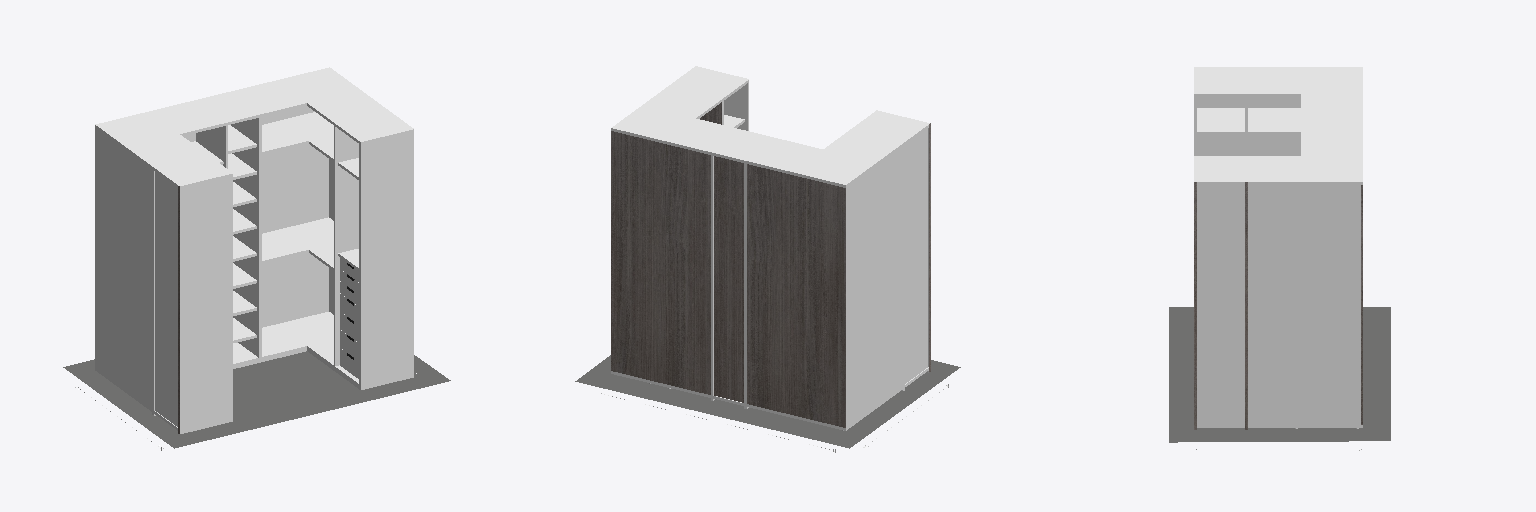
3 views of the same model, side by side, from view 1: azimuth 30°, elevation 25°; view 2: azimuth 150°, elevation 25°; view 3: azimuth 270°, elevation 25° (orthographic).
Parts seen in each view (by area): view 1: Mesh5 B2_CON_COS_PC_DXF1 Model, Mesh25 B2_CON_COS_PC_DXF1 Model, Mesh2 B2_CON_COS_PC_DXF1 Model, Mesh70 B2_CON_COS_PC_DXF1 Model, Mesh108 B2_CON_COS_PC_DXF1 Model, Mesh6 B2_CON_COS_PC_DXF1 Model, Mesh109 B2_CON_COS_PC_DXF1 Model, Mesh63 B2_CON_COS_PC_DXF1 Model, Mesh86 B2_CON_COS_PC_DXF1 Model, Mesh77 B2_CON_COS_PC_DXF1 Model, Mesh85 B2_CON_COS_PC_DXF1 Model, Mesh76 B2_CON_COS_PC_DXF1 Model (+1 smaller); view 2: Mesh25 B2_CON_COS_PC_DXF1 Model, Mesh70 B2_CON_COS_PC_DXF1 Model, Mesh5 B2_CON_COS_PC_DXF1 Model, Mesh52 B2_CON_COS_PC_DXF1 Model, Mesh6 B2_CON_COS_PC_DXF1 Model, Mesh109 B2_CON_COS_PC_DXF1 Model, Mesh108 B2_CON_COS_PC_DXF1 Model, Mesh2 B2_CON_COS_PC_DXF1 Model; view 3: Mesh70 B2_CON_COS_PC_DXF1 Model, Mesh5 B2_CON_COS_PC_DXF1 Model, Mesh96 B2_CON_COS_PC_DXF1 Model, Mesh109 B2_CON_COS_PC_DXF1 Model, Mesh108 B2_CON_COS_PC_DXF1 Model, Mesh25 B2_CON_COS_PC_DXF1 Model, Mesh6 B2_CON_COS_PC_DXF1 Model, Mesh31 B2_CON_COS_PC_DXF1 Model, Mesh10 B2_CON_COS_PC_DXF1 Model.
Boxes of the visible parts, x1,y1,x2,y2 form: Mesh5 B2_CON_COS_PC_DXF1 Model: [95, 67, 413, 430]; Mesh25 B2_CON_COS_PC_DXF1 Model: [95, 128, 195, 408]; Mesh2 B2_CON_COS_PC_DXF1 Model: [178, 172, 232, 433]; Mesh70 B2_CON_COS_PC_DXF1 Model: [262, 106, 333, 327]; Mesh108 B2_CON_COS_PC_DXF1 Model: [91, 351, 421, 435]; Mesh6 B2_CON_COS_PC_DXF1 Model: [155, 172, 177, 426]; Mesh109 B2_CON_COS_PC_DXF1 Model: [63, 355, 450, 448]; Mesh63 B2_CON_COS_PC_DXF1 Model: [262, 312, 333, 364]; Mesh86 B2_CON_COS_PC_DXF1 Model: [281, 217, 333, 270]; Mesh77 B2_CON_COS_PC_DXF1 Model: [281, 112, 333, 161]; Mesh85 B2_CON_COS_PC_DXF1 Model: [262, 229, 308, 263]; Mesh76 B2_CON_COS_PC_DXF1 Model: [262, 120, 308, 154]; Mesh25 B2_CON_COS_PC_DXF1 Model: [747, 147, 902, 427]; Mesh70 B2_CON_COS_PC_DXF1 Model: [611, 131, 710, 394]; Mesh5 B2_CON_COS_PC_DXF1 Model: [611, 66, 928, 408]; Mesh52 B2_CON_COS_PC_DXF1 Model: [714, 156, 743, 402]; Mesh6 B2_CON_COS_PC_DXF1 Model: [905, 128, 927, 383]; Mesh109 B2_CON_COS_PC_DXF1 Model: [575, 355, 960, 448]; Mesh108 B2_CON_COS_PC_DXF1 Model: [604, 370, 932, 435]; Mesh2 B2_CON_COS_PC_DXF1 Model: [876, 110, 930, 372]; Mesh70 B2_CON_COS_PC_DXF1 Model: [1248, 185, 1362, 424]; Mesh5 B2_CON_COS_PC_DXF1 Model: [1194, 67, 1362, 429]; Mesh96 B2_CON_COS_PC_DXF1 Model: [1197, 185, 1244, 424]; Mesh109 B2_CON_COS_PC_DXF1 Model: [1169, 307, 1390, 442]; Mesh108 B2_CON_COS_PC_DXF1 Model: [1190, 316, 1369, 433]; Mesh25 B2_CON_COS_PC_DXF1 Model: [1248, 97, 1300, 155]; Mesh6 B2_CON_COS_PC_DXF1 Model: [1197, 97, 1244, 155]; Mesh31 B2_CON_COS_PC_DXF1 Model: [1248, 108, 1300, 134]; Mesh10 B2_CON_COS_PC_DXF1 Model: [1197, 108, 1244, 134].
Size of the model in its own units: 122 by 109 by 84.02.
7 materials, 1 textured.